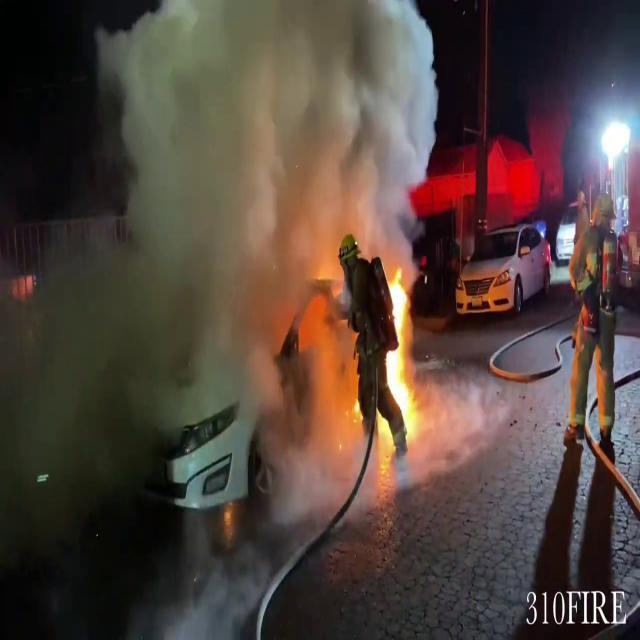Fire: (380, 266, 413, 446)
Smoke: (104, 1, 433, 260), (0, 195, 254, 484), (145, 529, 269, 640)
